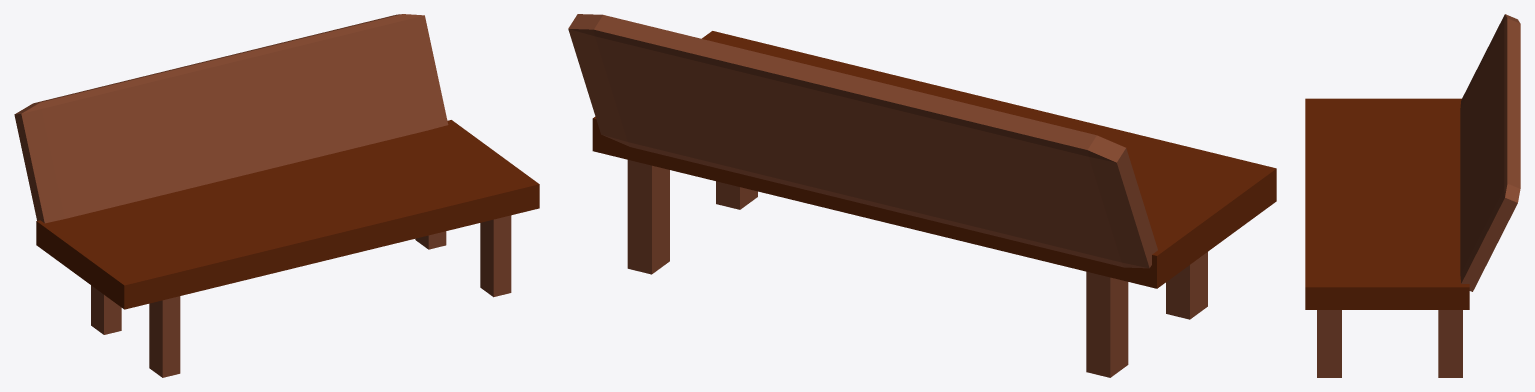
The model's file is ベンチ.fbx.
3 renders of one model, left to right at view 1: azimuth 30°, elevation 25°; view 2: azimuth 150°, elevation 25°; view 3: azimuth 270°, elevation 25°, orthographic. The views are drawn at different scales.
Parts seen in each view (by area): view 1: 立方体.005, 立方体, 立方体.003, 立方体.002, 立方体.001; view 2: 立方体.005, 立方体, 立方体.004, 立方体.001, 立方体.002, 立方体.003; view 3: 立方体, 立方体.005, 立方体.003, 立方体.004.
Boxes of the visible parts, x1=… form: 立方体.005: x1=14, y1=14, x2=448, y2=223; 立方体: x1=36, y1=120, x2=539, y2=309; 立方体.003: x1=480, y1=215, x2=511, y2=297; 立方体.002: x1=149, y1=296, x2=180, y2=377; 立方体.001: x1=91, y1=285, x2=121, y2=334; 立方体.005: x1=568, y1=14, x2=1157, y2=268; 立方体: x1=592, y1=31, x2=1276, y2=288; 立方体.004: x1=627, y1=160, x2=669, y2=274; 立方体.001: x1=1086, y1=271, x2=1128, y2=377; 立方体.002: x1=1166, y1=252, x2=1207, y2=319; 立方体.003: x1=716, y1=181, x2=757, y2=209; 立方体: x1=1305, y1=98, x2=1469, y2=309; 立方体.005: x1=1460, y1=14, x2=1520, y2=291; 立方体.003: x1=1317, y1=310, x2=1341, y2=377; 立方体.004: x1=1438, y1=310, x2=1462, y2=377.
Size of the model in its own units: 544 by 258 by 262.
